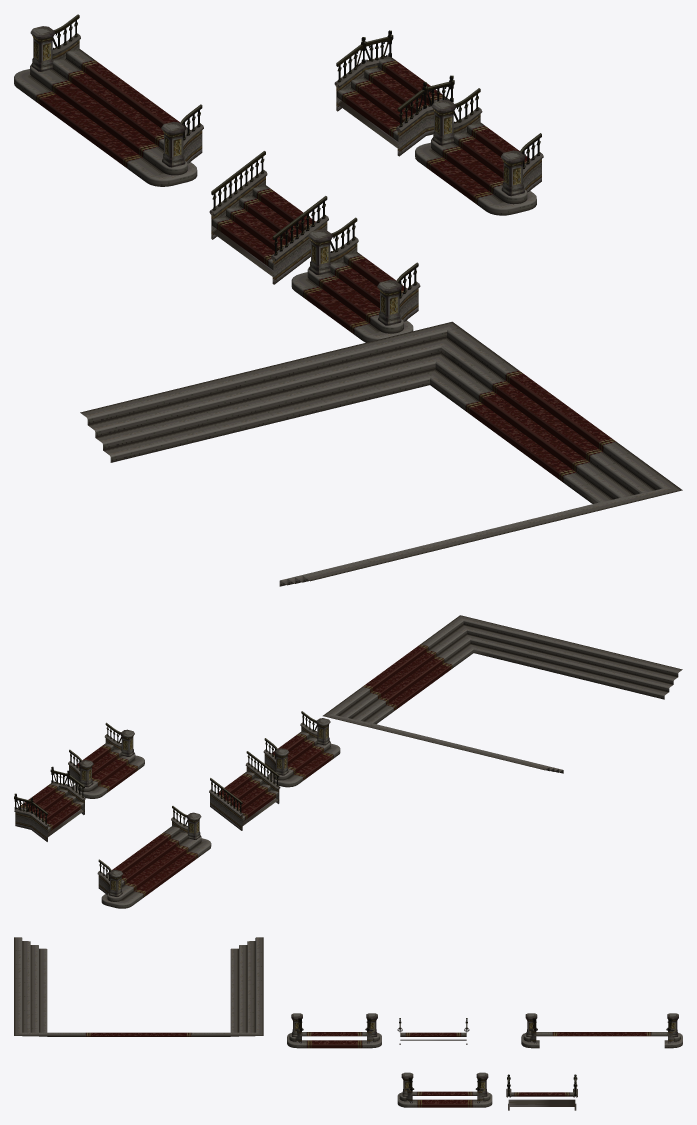
File: EnvMdrMD_Mansion_C_Stairs_A_Dng_Sea_2_2.FBX
3 renders of one model, top to bottom at view 1: azimuth 30°, elevation 25°; view 2: azimuth 150°, elevation 25°; view 3: azimuth 270°, elevation 25°, orthographic. The views are drawn at different scales.
Visible parts, largest first — view 1: EnvMdrMD_Mansion_C_Stairs_A_Dng_Sea_2_2, EnvMdrMD_Mansion_C_Stairs_A_H100_1000W, EnvMdrMD_Mansion_C_Stairs_A_Start, EnvMdrMD_Mansion_C_Stairs_A_H100, EnvMdrMD_Mansion_C_Stairs_A_Loop, EnvMdrMD_Mansion_C_Stairs_A_End; view 2: EnvMdrMD_Mansion_C_Stairs_A_Dng_Sea_2_2, EnvMdrMD_Mansion_C_Stairs_A_H100_1000W, EnvMdrMD_Mansion_C_Stairs_A_H100, EnvMdrMD_Mansion_C_Stairs_A_Start, EnvMdrMD_Mansion_C_Stairs_A_Loop, EnvMdrMD_Mansion_C_Stairs_A_End; view 3: EnvMdrMD_Mansion_C_Stairs_A_Dng_Sea_2_2, EnvMdrMD_Mansion_C_Stairs_A_Start, EnvMdrMD_Mansion_C_Stairs_A_H100, EnvMdrMD_Mansion_C_Stairs_A_H100_1000W, EnvMdrMD_Mansion_C_Stairs_A_End, EnvMdrMD_Mansion_C_Stairs_A_Loop.
Boxes of the visible parts, x1=… form: EnvMdrMD_Mansion_C_Stairs_A_Dng_Sea_2_2: x1=80, y1=321, x2=682, y2=586; EnvMdrMD_Mansion_C_Stairs_A_H100_1000W: x1=14, y1=14, x2=203, y2=186; EnvMdrMD_Mansion_C_Stairs_A_Start: x1=415, y1=88, x2=543, y2=215; EnvMdrMD_Mansion_C_Stairs_A_H100: x1=291, y1=217, x2=420, y2=342; EnvMdrMD_Mansion_C_Stairs_A_Loop: x1=209, y1=151, x2=328, y2=284; EnvMdrMD_Mansion_C_Stairs_A_End: x1=334, y1=30, x2=454, y2=156; EnvMdrMD_Mansion_C_Stairs_A_Dng_Sea_2_2: x1=323, y1=615, x2=682, y2=773; EnvMdrMD_Mansion_C_Stairs_A_H100_1000W: x1=97, y1=806, x2=211, y2=908; EnvMdrMD_Mansion_C_Stairs_A_H100: x1=263, y1=711, x2=340, y2=787; EnvMdrMD_Mansion_C_Stairs_A_Start: x1=68, y1=722, x2=144, y2=798; EnvMdrMD_Mansion_C_Stairs_A_Loop: x1=209, y1=751, x2=280, y2=830; EnvMdrMD_Mansion_C_Stairs_A_End: x1=14, y1=766, x2=85, y2=841; EnvMdrMD_Mansion_C_Stairs_A_Dng_Sea_2_2: x1=14, y1=937, x2=263, y2=1036; EnvMdrMD_Mansion_C_Stairs_A_Start: x1=397, y1=1072, x2=492, y2=1107; EnvMdrMD_Mansion_C_Stairs_A_H100: x1=287, y1=1013, x2=381, y2=1048; EnvMdrMD_Mansion_C_Stairs_A_H100_1000W: x1=521, y1=1013, x2=682, y2=1048; EnvMdrMD_Mansion_C_Stairs_A_End: x1=506, y1=1074, x2=577, y2=1110; EnvMdrMD_Mansion_C_Stairs_A_Loop: x1=397, y1=1018, x2=469, y2=1044.
Bounding box in the file's own units: 2258 × 270 × 4017.
1 material, 1 textured.
